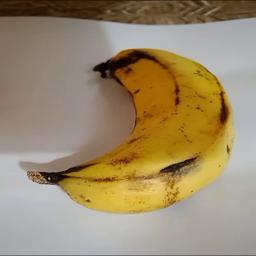Banana Semifresh: (21, 45, 240, 225)
